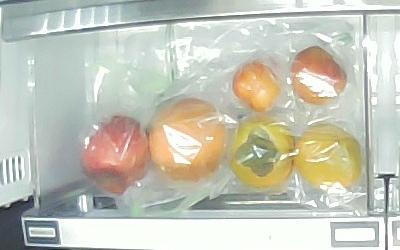apple_vinyl: (80, 115, 150, 196)
grapefruit_vinyl: (148, 98, 226, 183)
persimmon_vinyl: (229, 115, 293, 188), (295, 123, 361, 189)
prune_vinyl: (290, 46, 347, 106), (231, 60, 279, 112)
